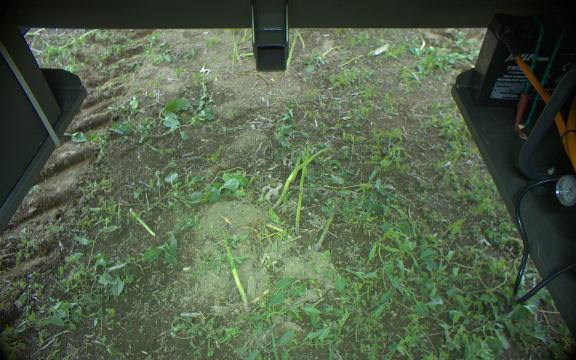aspa: (268, 143, 327, 210), (218, 220, 253, 316), (312, 199, 340, 254), (294, 143, 309, 240), (287, 30, 300, 70)
